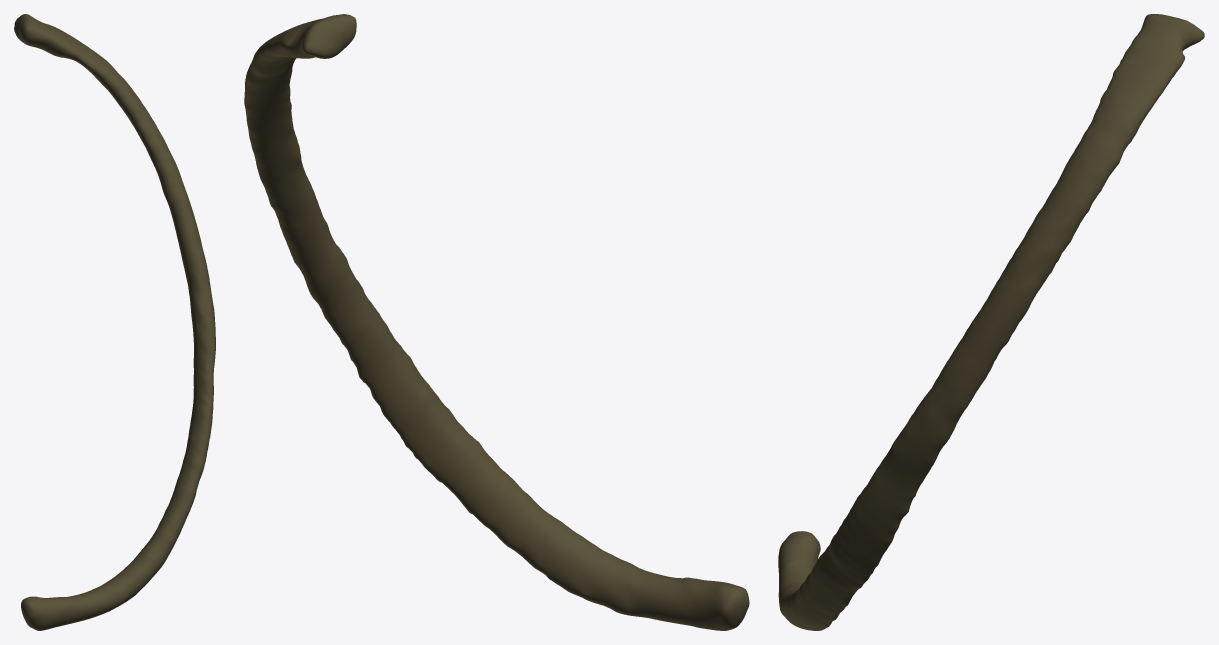
The model's file is segmentations_rib_right_5.obj.
3 views of the same model, side by side, from view 1: azimuth 30°, elevation 25°; view 2: azimuth 150°, elevation 25°; view 3: azimuth 270°, elevation 25° (orthographic). The views are drawn at different scales.
Parts seen in each view (by area): view 1: grp1; view 2: grp1; view 3: grp1.
Part boxes in pixels (left/top/right/bottom): grp1: left=14, top=14, right=215, bottom=630; grp1: left=244, top=14, right=749, bottom=630; grp1: left=778, top=14, right=1204, bottom=630.
Size of the model in its own units: 61.96 by 117 by 69.56.
